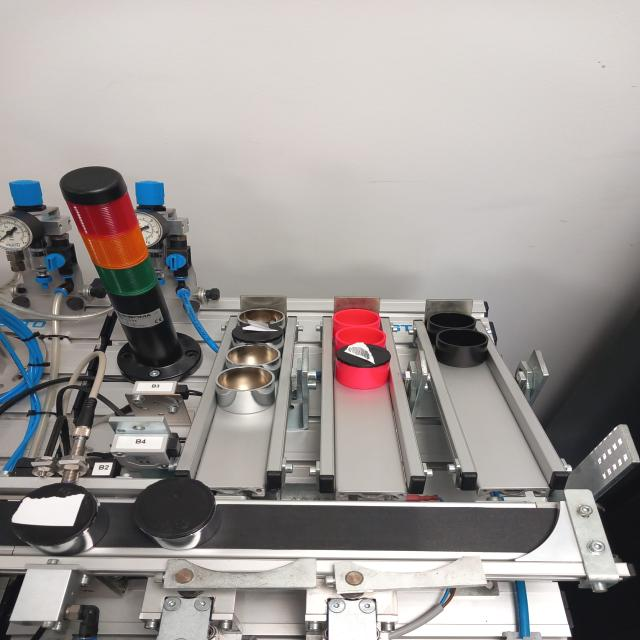NoLid: (212, 367, 276, 409), (434, 330, 492, 368), (226, 340, 282, 368), (428, 307, 483, 334), (331, 327, 388, 346), (327, 308, 386, 326), (235, 305, 284, 325)
Workpiece: (126, 482, 238, 556)
